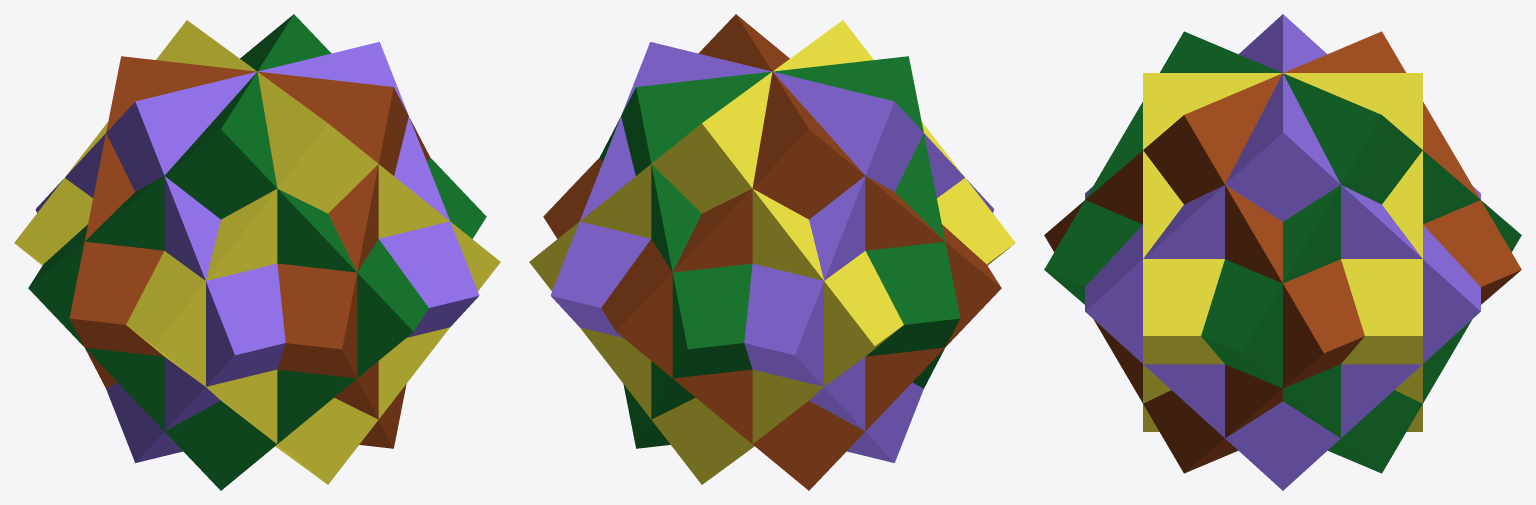
Rendered from StrangeStar.fbx.
The picture shows the model from 3 angles, left to right: view 1: azimuth 30°, elevation 25°; view 2: azimuth 150°, elevation 25°; view 3: azimuth 270°, elevation 25°; orthographic projection.
Parts seen in each view (by area): view 1: Cube.004; view 2: Cube.004; view 3: Cube.004.
Boxes of the visible parts, <box> form: Cube.004: <box>14,14,500,490</box>; Cube.004: <box>529,14,1015,490</box>; Cube.004: <box>1044,14,1521,490</box>.
Size of the model in its own units: 341 by 283 by 341.
